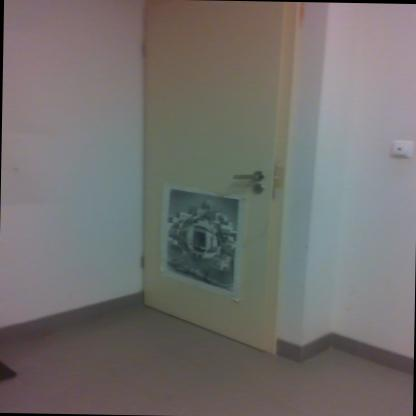closed: (120, 0, 310, 338)
